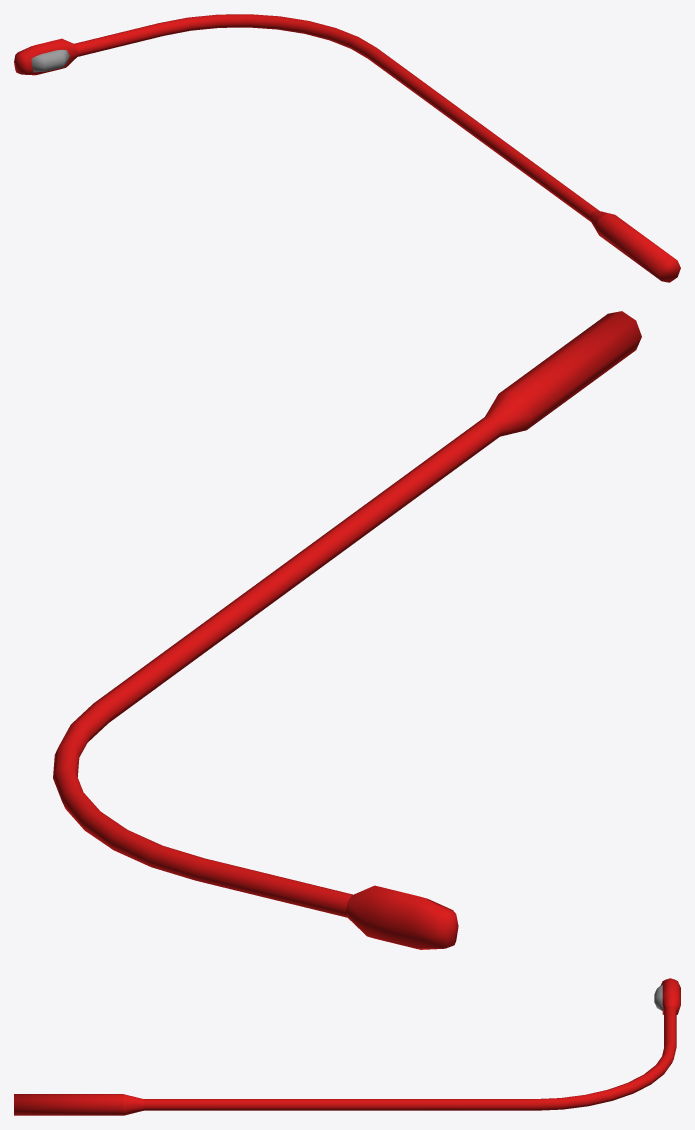
The model's file is StreetLamp.FBX.
The picture shows the model from 3 angles, top to bottom: view 1: azimuth 30°, elevation 25°; view 2: azimuth 150°, elevation 25°; view 3: azimuth 270°, elevation 25°; orthographic projection. The views are drawn at different scales.
Visible parts, largest first — view 1: Cylinder024; view 2: Cylinder024; view 3: Cylinder024.
Boxes of the visible parts, left/top/right/bottom form: Cylinder024: left=14, top=14, right=680, bottom=282; Cylinder024: left=53, top=311, right=641, bottom=949; Cylinder024: left=14, top=978, right=680, bottom=1115.
Size of the model in its own units: 1.95 by 0.1946 by 4.42.
